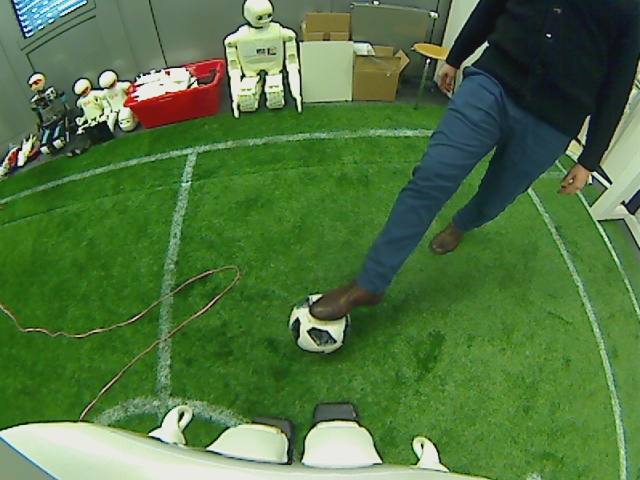ball: (287, 299, 349, 352)
